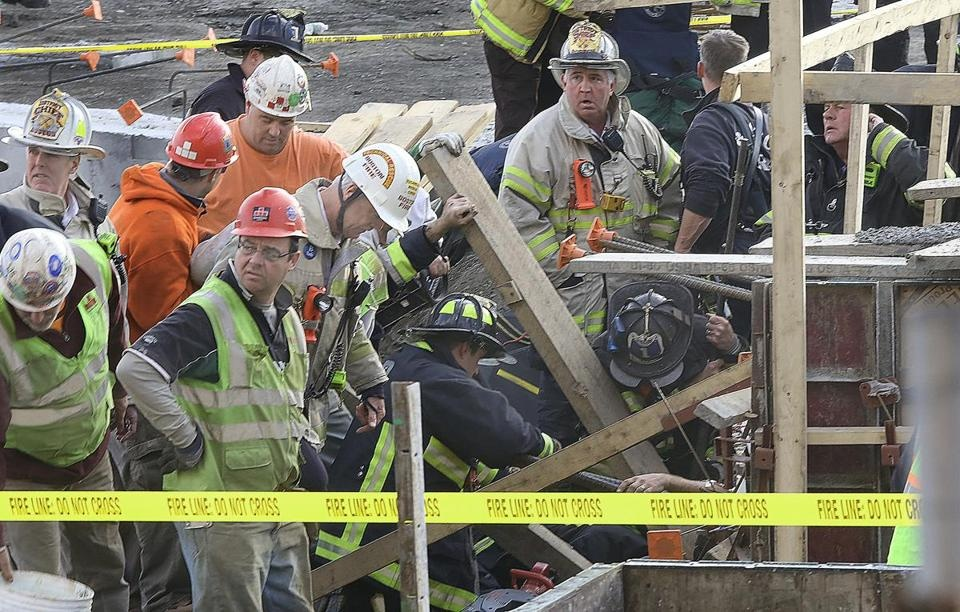none: (698, 26, 747, 93)
red: (229, 188, 306, 295), (165, 113, 232, 192)
white: (331, 143, 419, 233), (4, 230, 74, 326), (19, 92, 86, 190), (244, 58, 309, 145), (559, 25, 619, 117)
